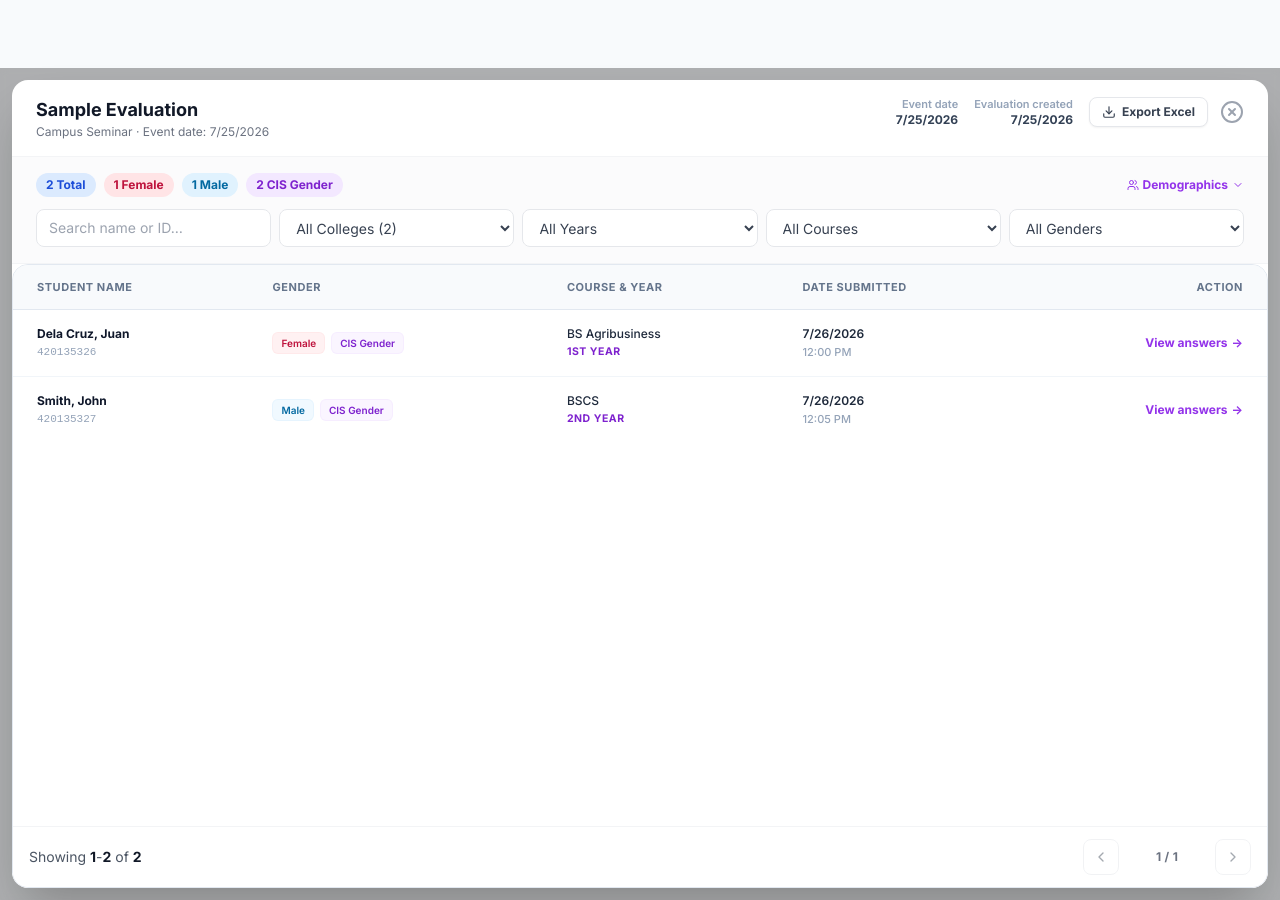
Test: EventEvaluationResultsModal annotations › filters responses when gender filter is selected
The image size is (1280, 900).
Expected: the heading "Sample Evaluation" is shown, [36, 99, 198, 120]
Expected: the text "Dela Cruz, Juan" is shown, [37, 326, 129, 341]
Select "Male (1)" in the dropdown named "Filter by gender" at (1126,228), box [1009, 209, 1244, 247]
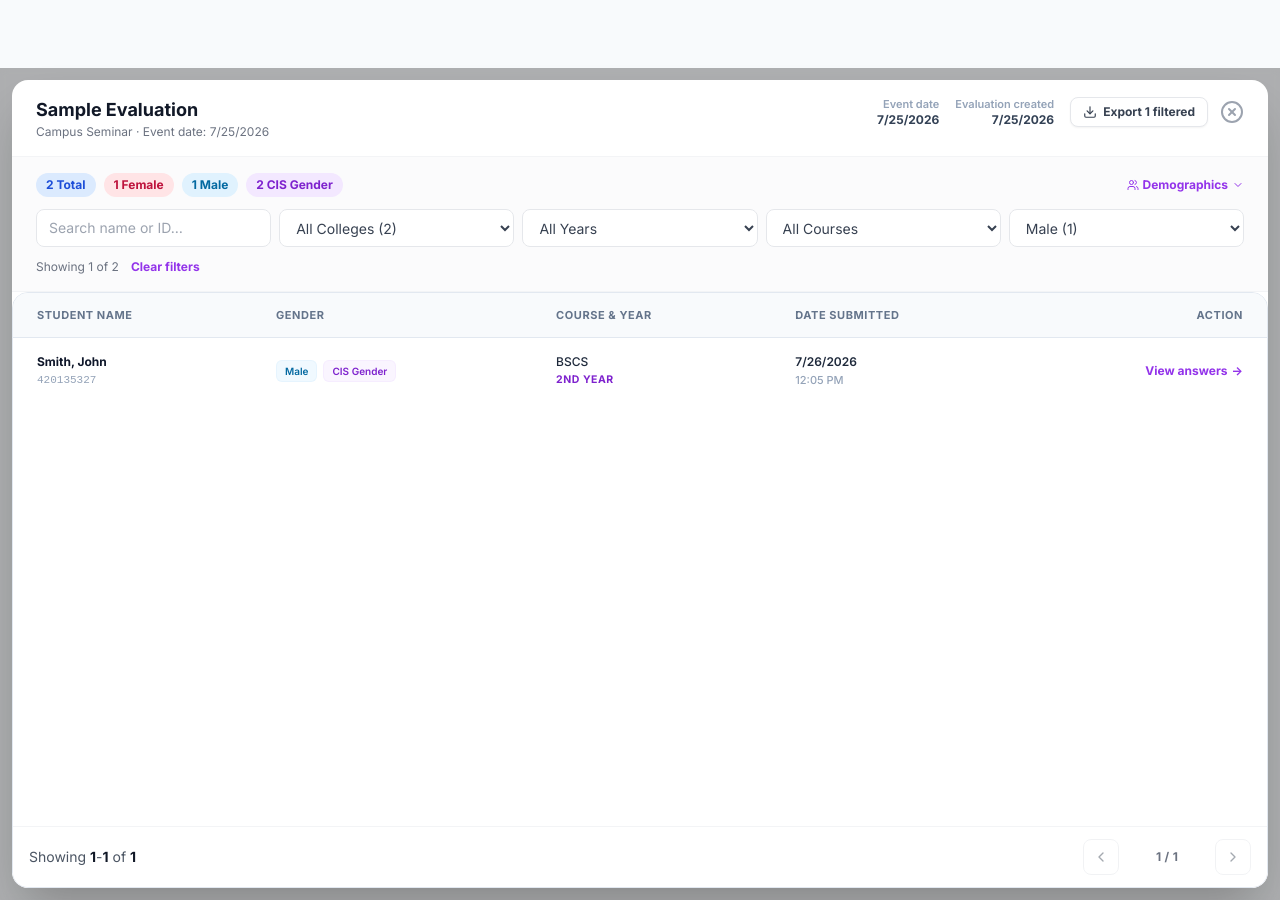
Expected: the text "Smith, John" is shown, [37, 354, 107, 369]
Now the text "Dela Cruz, Juan" is gone
